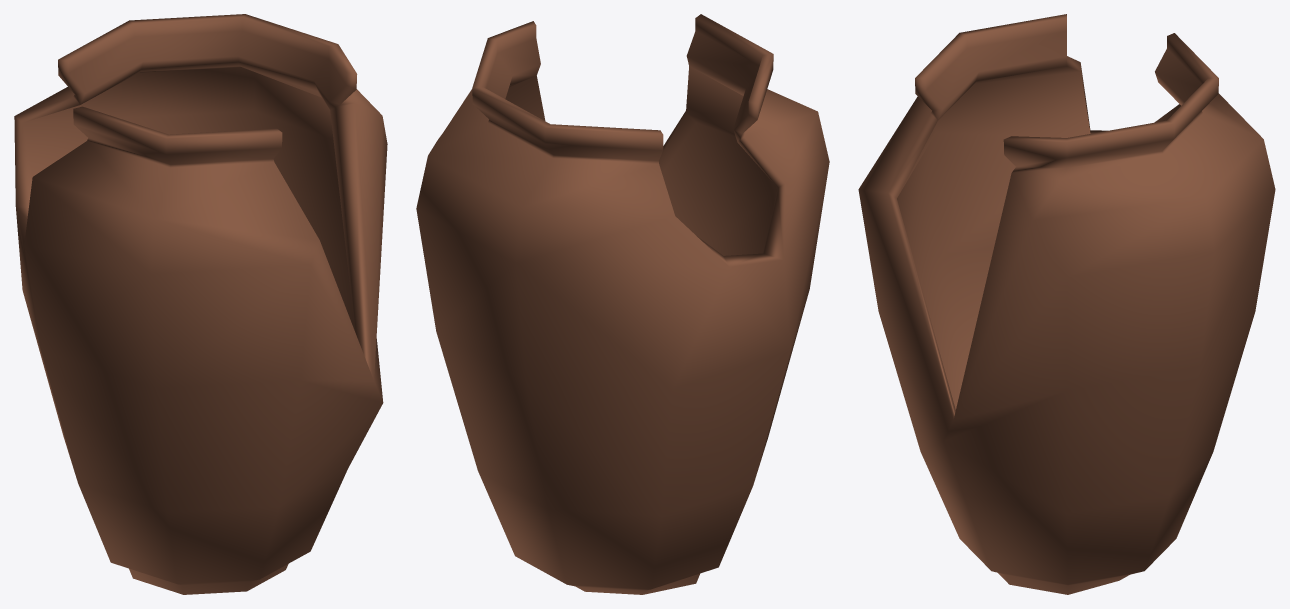
Rendered from Vaso_5_quebrado.fbx.
3 renders of one model, left to right at view 1: azimuth 30°, elevation 25°; view 2: azimuth 150°, elevation 25°; view 3: azimuth 270°, elevation 25°, orthographic. The views are drawn at different scales.
Parts seen in each view (by area): view 1: Vaso_5_quebrado; view 2: Vaso_5_quebrado; view 3: Vaso_5_quebrado.
Boxes of the visible parts, <box> form: Vaso_5_quebrado: <box>14,14,387,594</box>; Vaso_5_quebrado: <box>416,14,829,594</box>; Vaso_5_quebrado: <box>858,14,1275,594</box>.
Bounding box in the file's own units: 0.3852 × 0.3723 × 0.4908.
